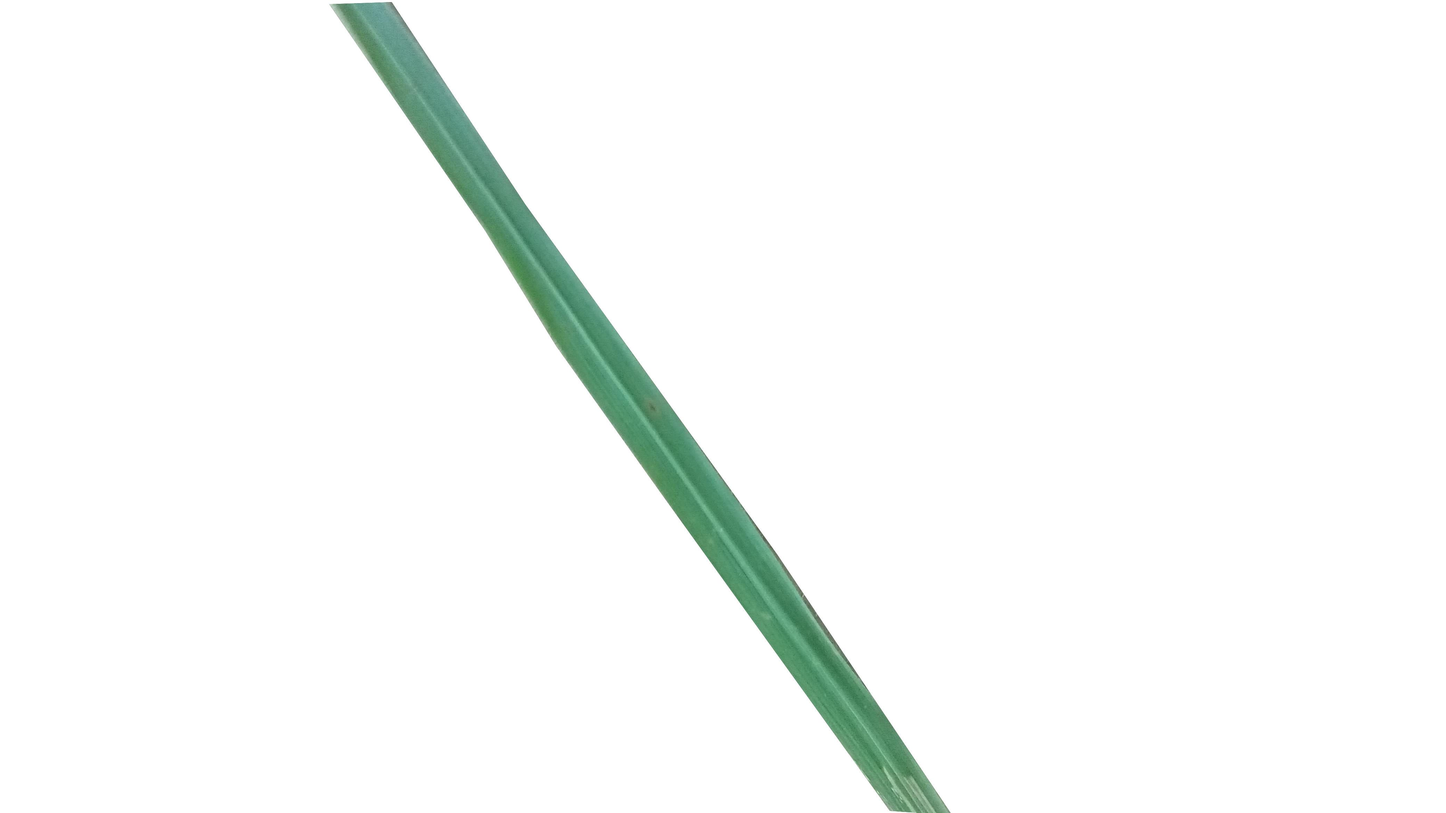Brown spot: (645, 392, 658, 423)
